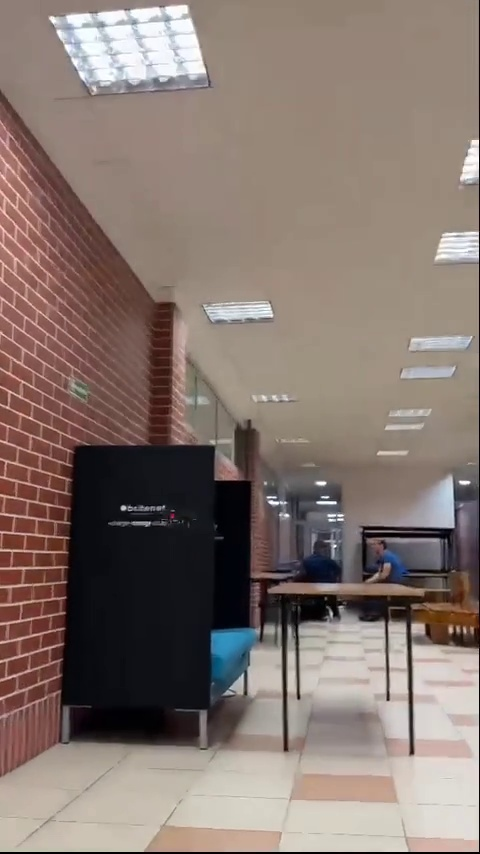drone: (160, 511, 189, 531)
no vest: (299, 540, 342, 583), (364, 538, 405, 583)
